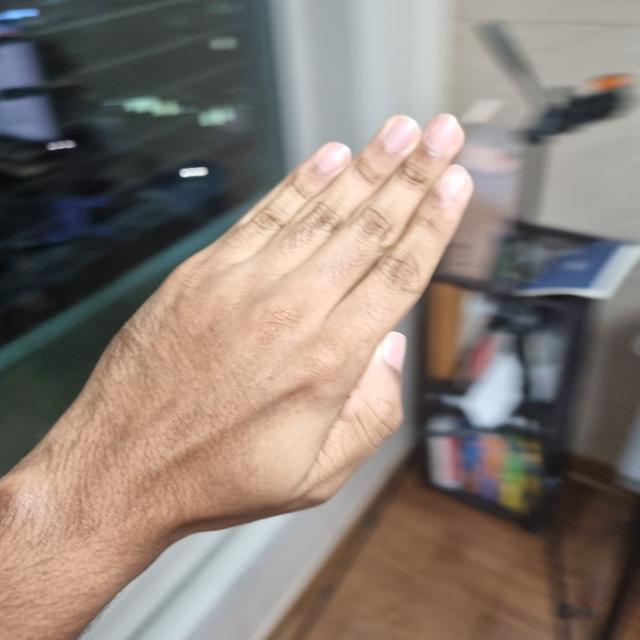Paper: (63, 113, 471, 533)
